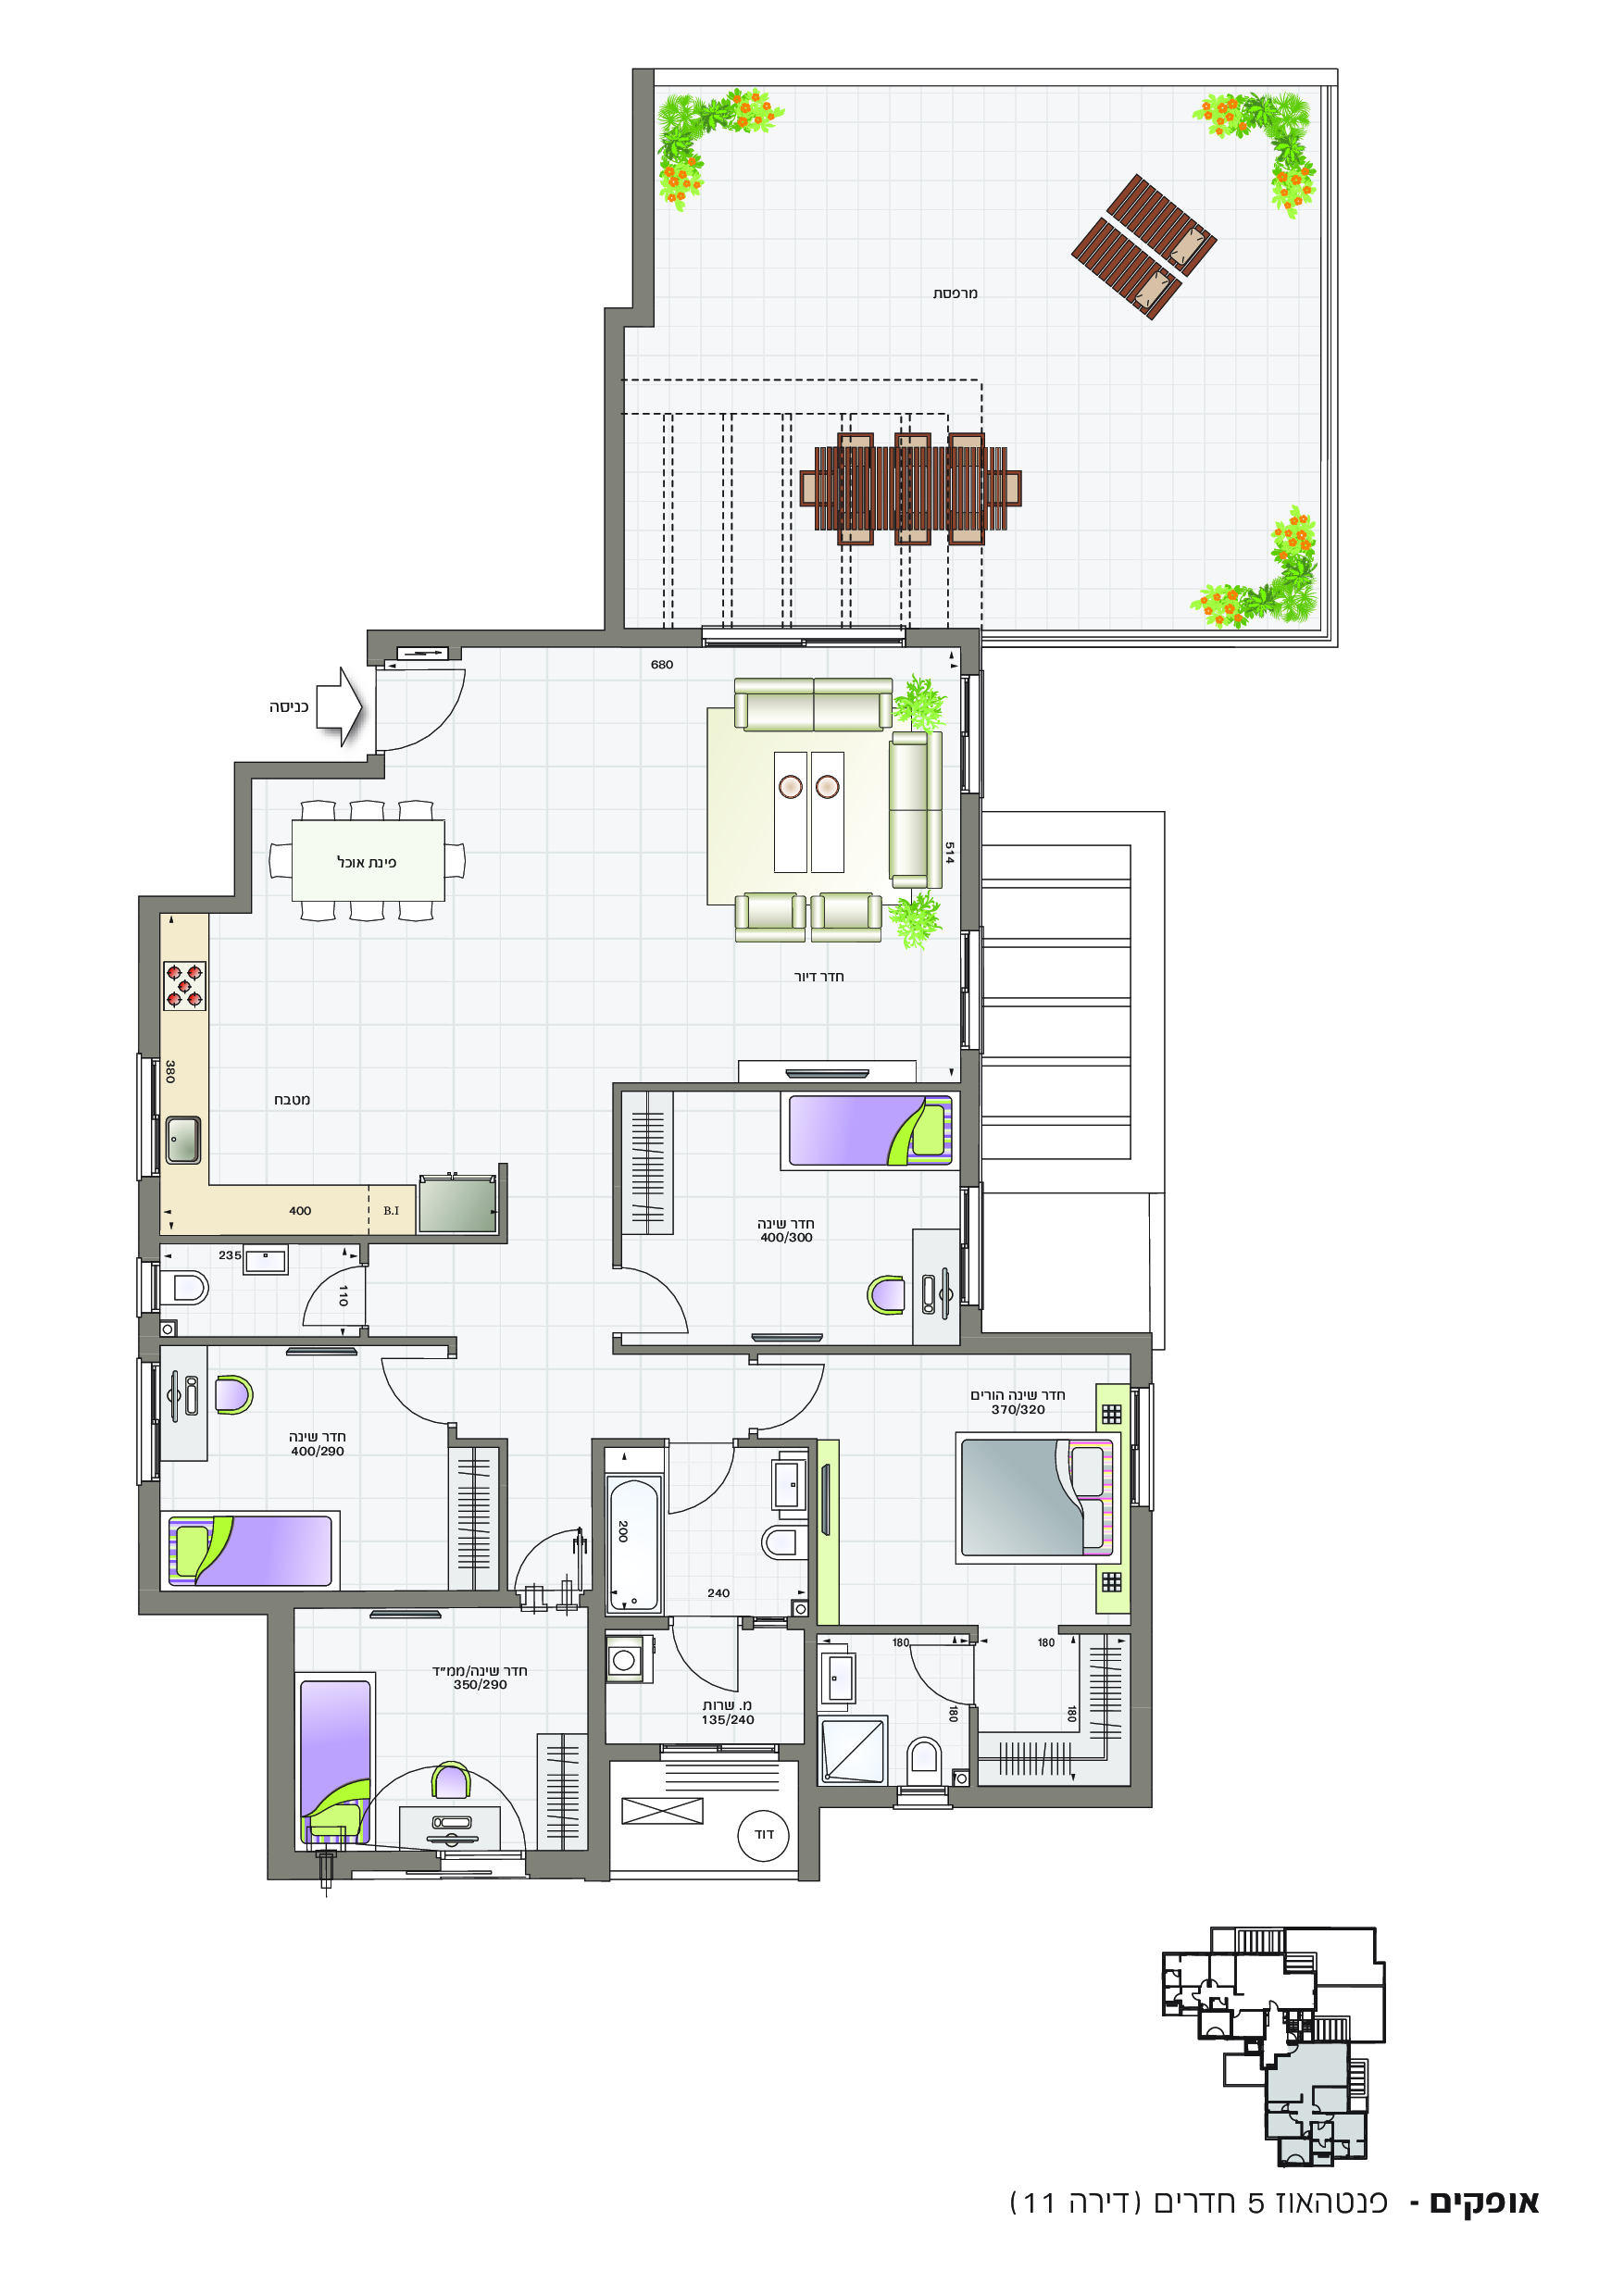door: (380, 659, 478, 761), (761, 1353, 835, 1435), (670, 1627, 743, 1709), (624, 1265, 698, 1346), (288, 1254, 362, 1335), (378, 1351, 452, 1432), (896, 1634, 970, 1715), (513, 1505, 585, 1588), (664, 1449, 736, 1530)
wall: (267, 1614, 294, 1880), (366, 631, 701, 648), (1130, 1511, 1149, 1806), (589, 1614, 608, 1881), (947, 1785, 1128, 1808), (294, 1592, 517, 1609), (137, 896, 160, 1059), (775, 1483, 1120, 1493), (141, 1592, 294, 1614), (612, 1084, 956, 1093), (613, 1346, 958, 1354), (232, 761, 251, 896), (591, 1439, 603, 1614), (251, 759, 383, 775), (798, 1785, 819, 1883), (160, 896, 251, 913)
window: (701, 629, 907, 650), (135, 1361, 162, 1483), (956, 675, 982, 794), (956, 931, 982, 1049), (956, 1186, 982, 1303), (1127, 1390, 1153, 1507), (135, 1056, 160, 1177), (656, 1743, 779, 1762), (896, 1783, 949, 1809), (135, 1261, 162, 1312)
